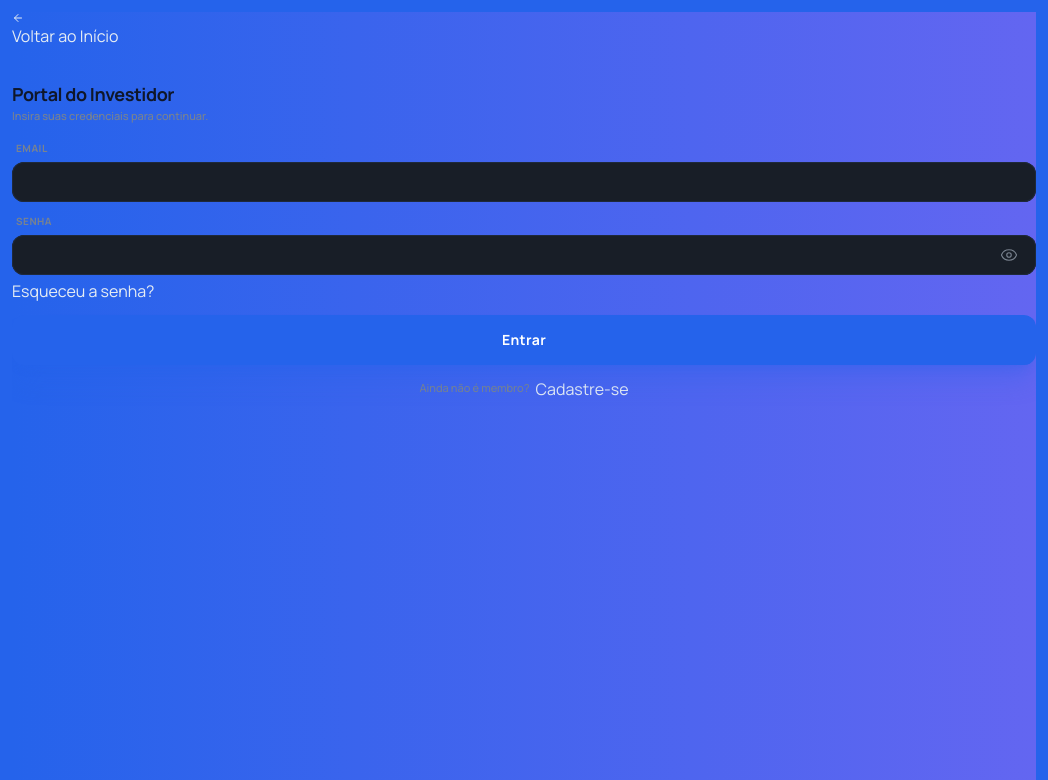
fluxo 2FA (MFA) › exibe campo de código quando backend responde mfaRequired: true
The image size is (1048, 780).
Step 1. Type "user@email.com" into the field labelled "Email" → point(524, 182), box [12,162,1036,202]
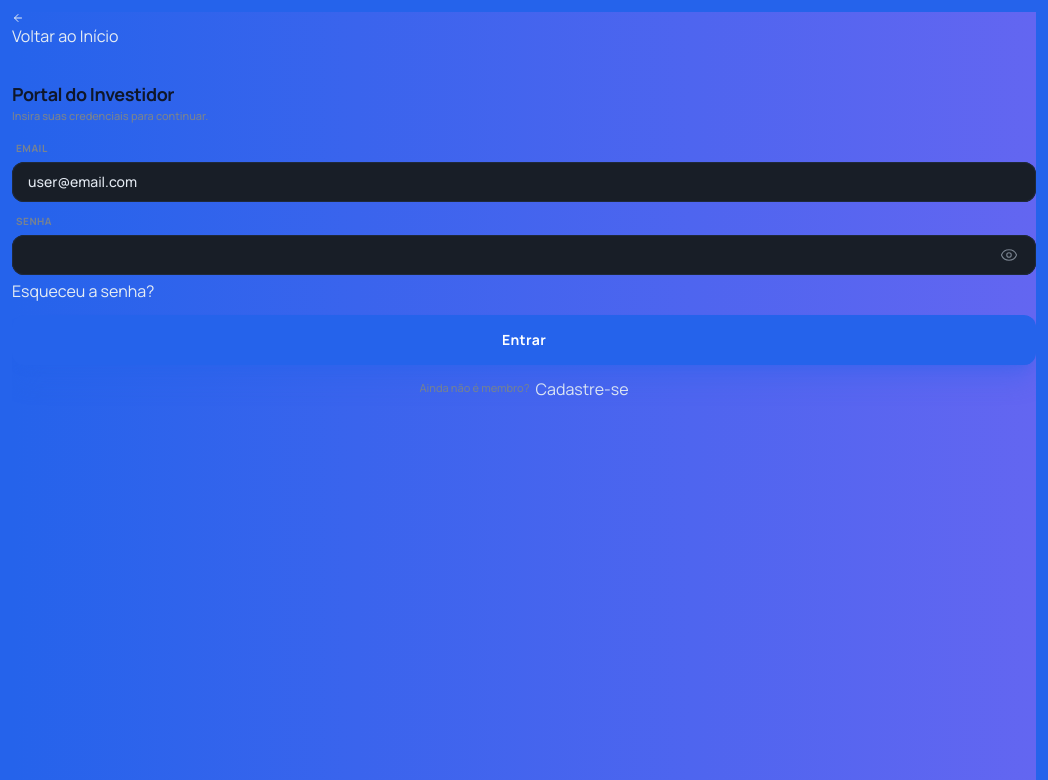
Step 2. Type "Senha123!" into the password field labelled "Senha" → point(524, 254), box [12,234,1036,274]
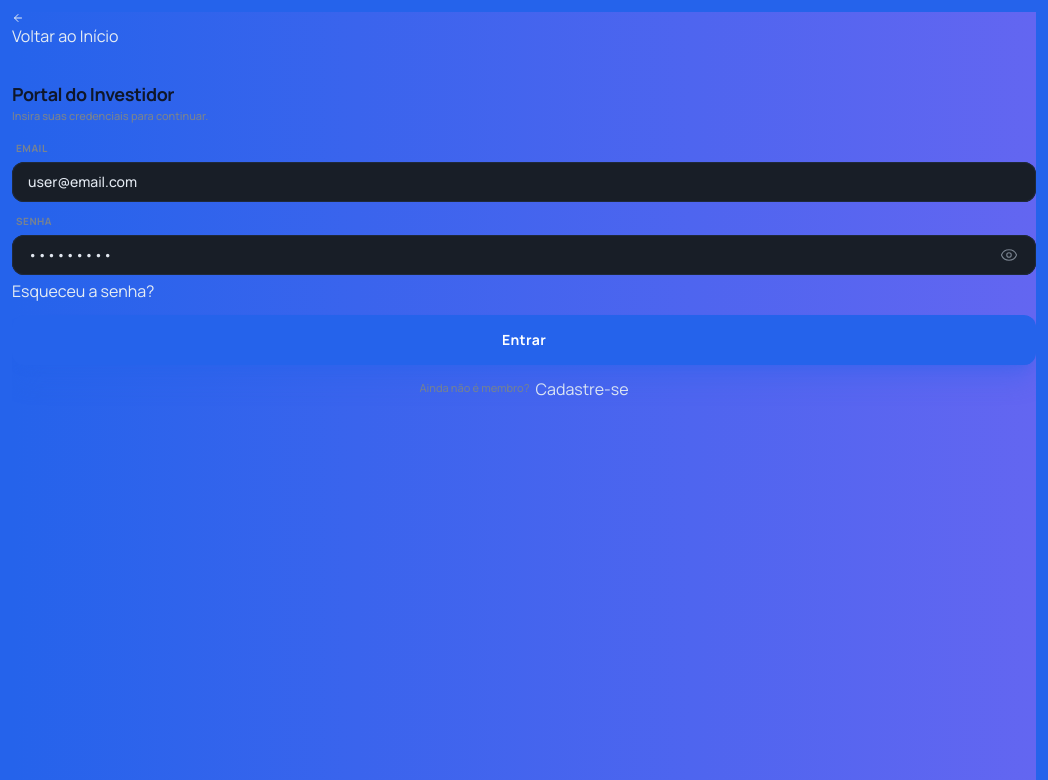
Step 3. Submit the form, box [12,140,1036,364]
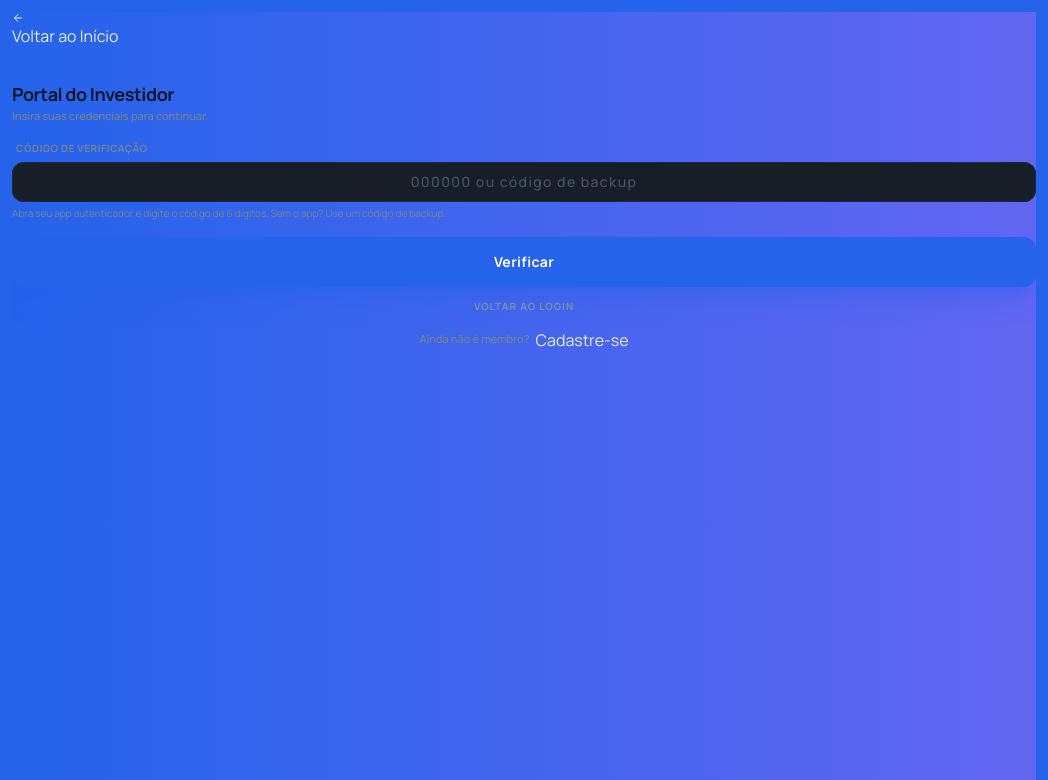
Expected: the field labelled "Código de verificação" is shown, [12,162,1036,202]
Expected: the label labelled "Email" is gone
Expected: the label labelled "Senha" is gone
